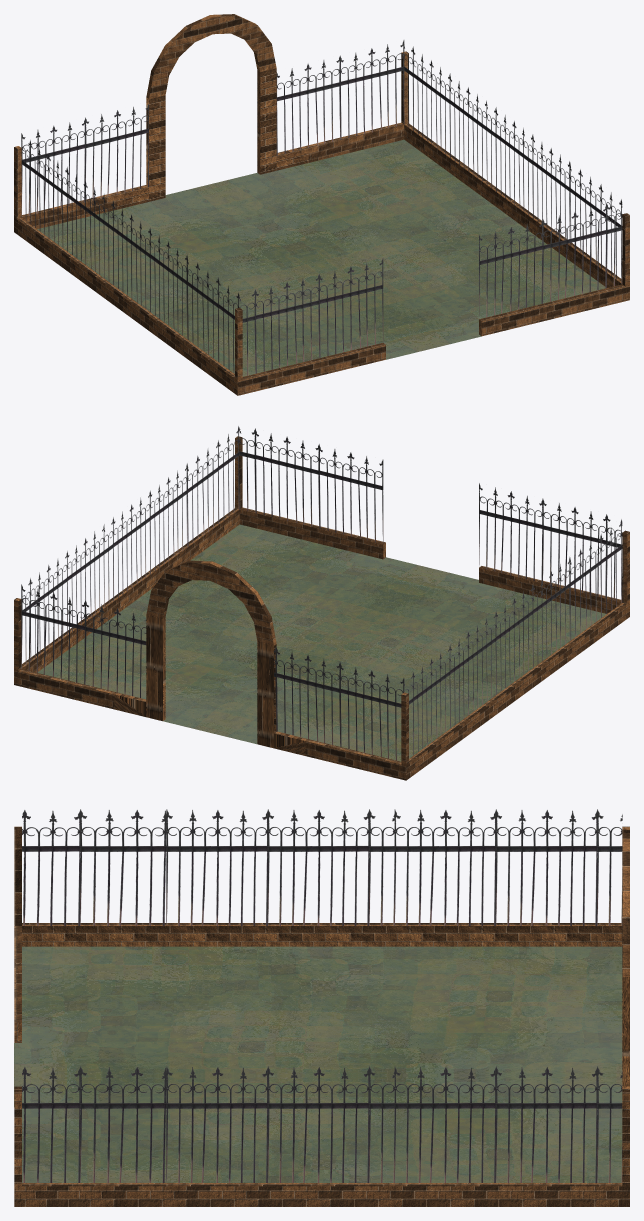
The model's file is Garden.glb.
The picture shows the model from 3 angles, top to bottom: view 1: azimuth 30°, elevation 25°; view 2: azimuth 150°, elevation 25°; view 3: azimuth 270°, elevation 25°; orthographic projection. The views are drawn at different scales.
Parts seen in each view (by area): view 1: Ground, Gate, spikes; view 2: Ground, Gate, spikes; view 3: Ground, spikes, Gate.
Part boxes in pixels (x1,y1,x2,y2): Ground: (37,139,605,376); Gate: (14,14,629,395); spikes: (21,40,622,375); Ground: (38,524,606,761); Gate: (14,436,629,780); spikes: (21,426,622,760); Ground: (14,946,622,1182); spikes: (22,809,622,1182); Gate: (14,826,629,1206).
Size of what is drawn, in the model's own units: 8.2 by 3.4 by 8.11.
3 materials, 3 textured.
